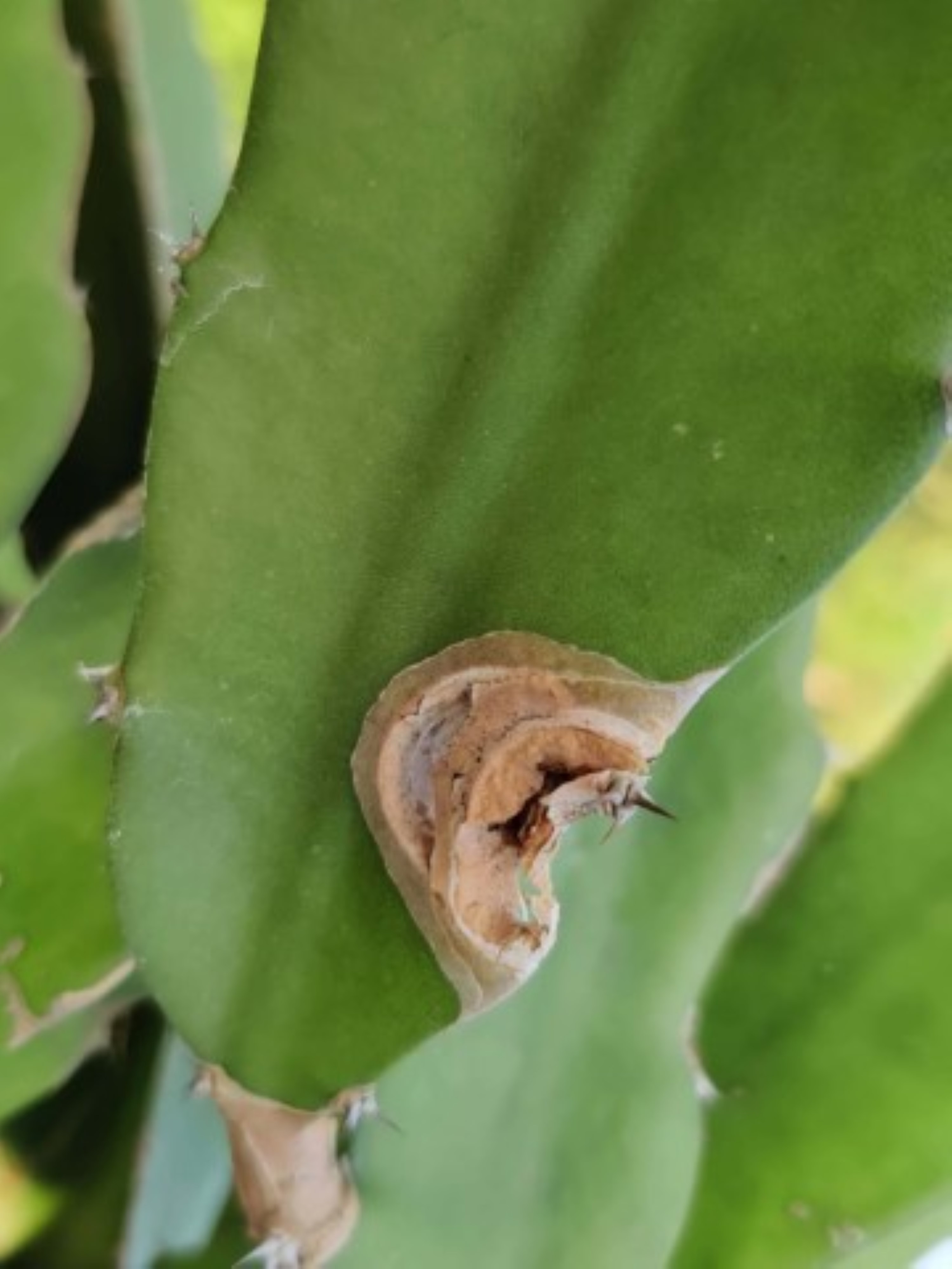stemcanker: (298, 644, 755, 1098)
